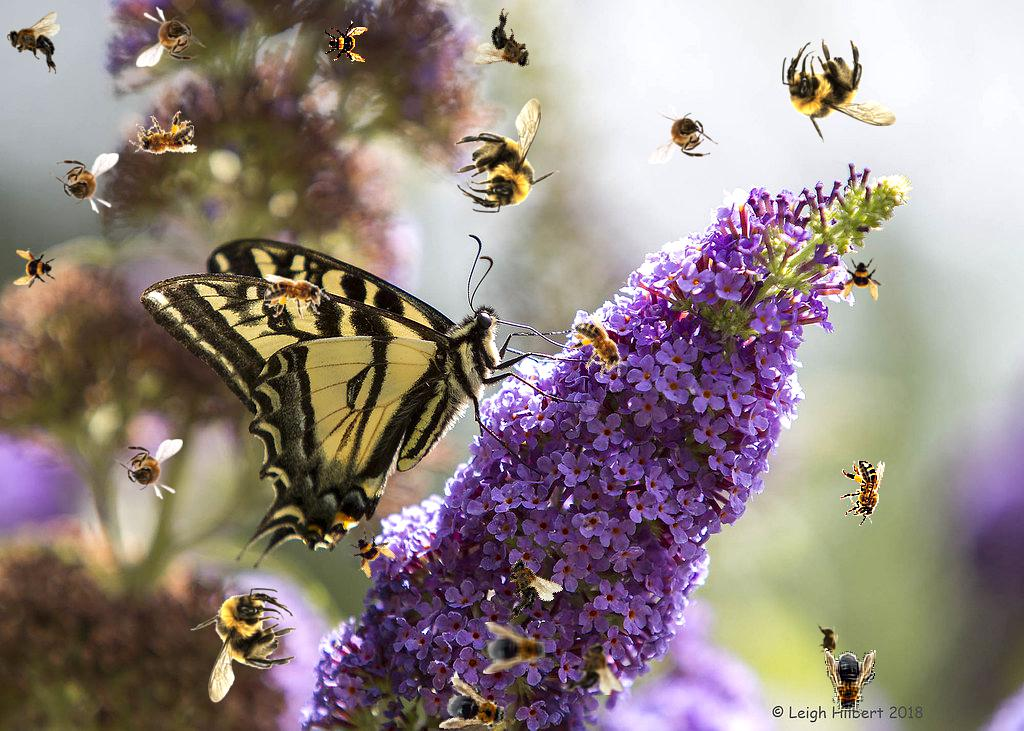Bee: (190, 588, 297, 703), (782, 38, 897, 145), (453, 98, 560, 213), (484, 547, 565, 625), (560, 310, 638, 389), (470, 6, 547, 86), (124, 107, 200, 166), (438, 676, 516, 731), (136, 6, 206, 67), (648, 103, 718, 164), (49, 153, 119, 214), (113, 439, 183, 500), (339, 519, 403, 583), (483, 622, 551, 674), (824, 648, 876, 716), (7, 12, 60, 74), (561, 642, 623, 695), (264, 274, 330, 319), (840, 460, 885, 526), (13, 248, 57, 292), (841, 257, 885, 301), (324, 20, 368, 64), (817, 622, 839, 662)
